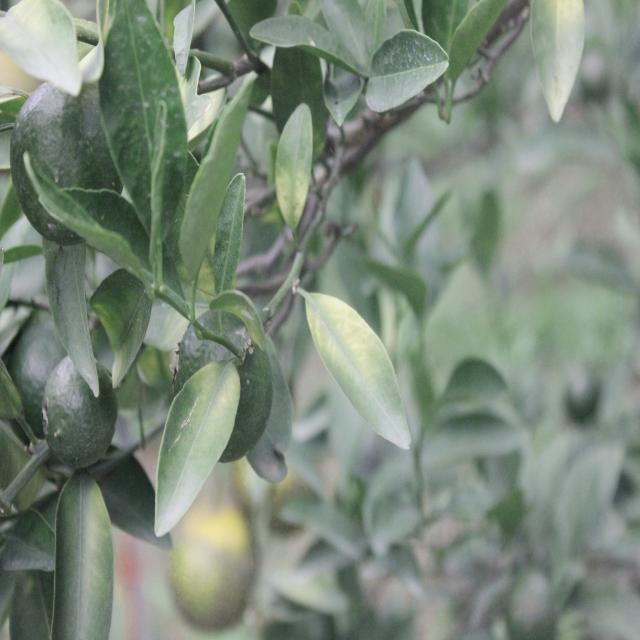greening: (310, 289, 409, 439), (151, 362, 240, 526), (525, 0, 590, 116), (271, 111, 310, 222)
